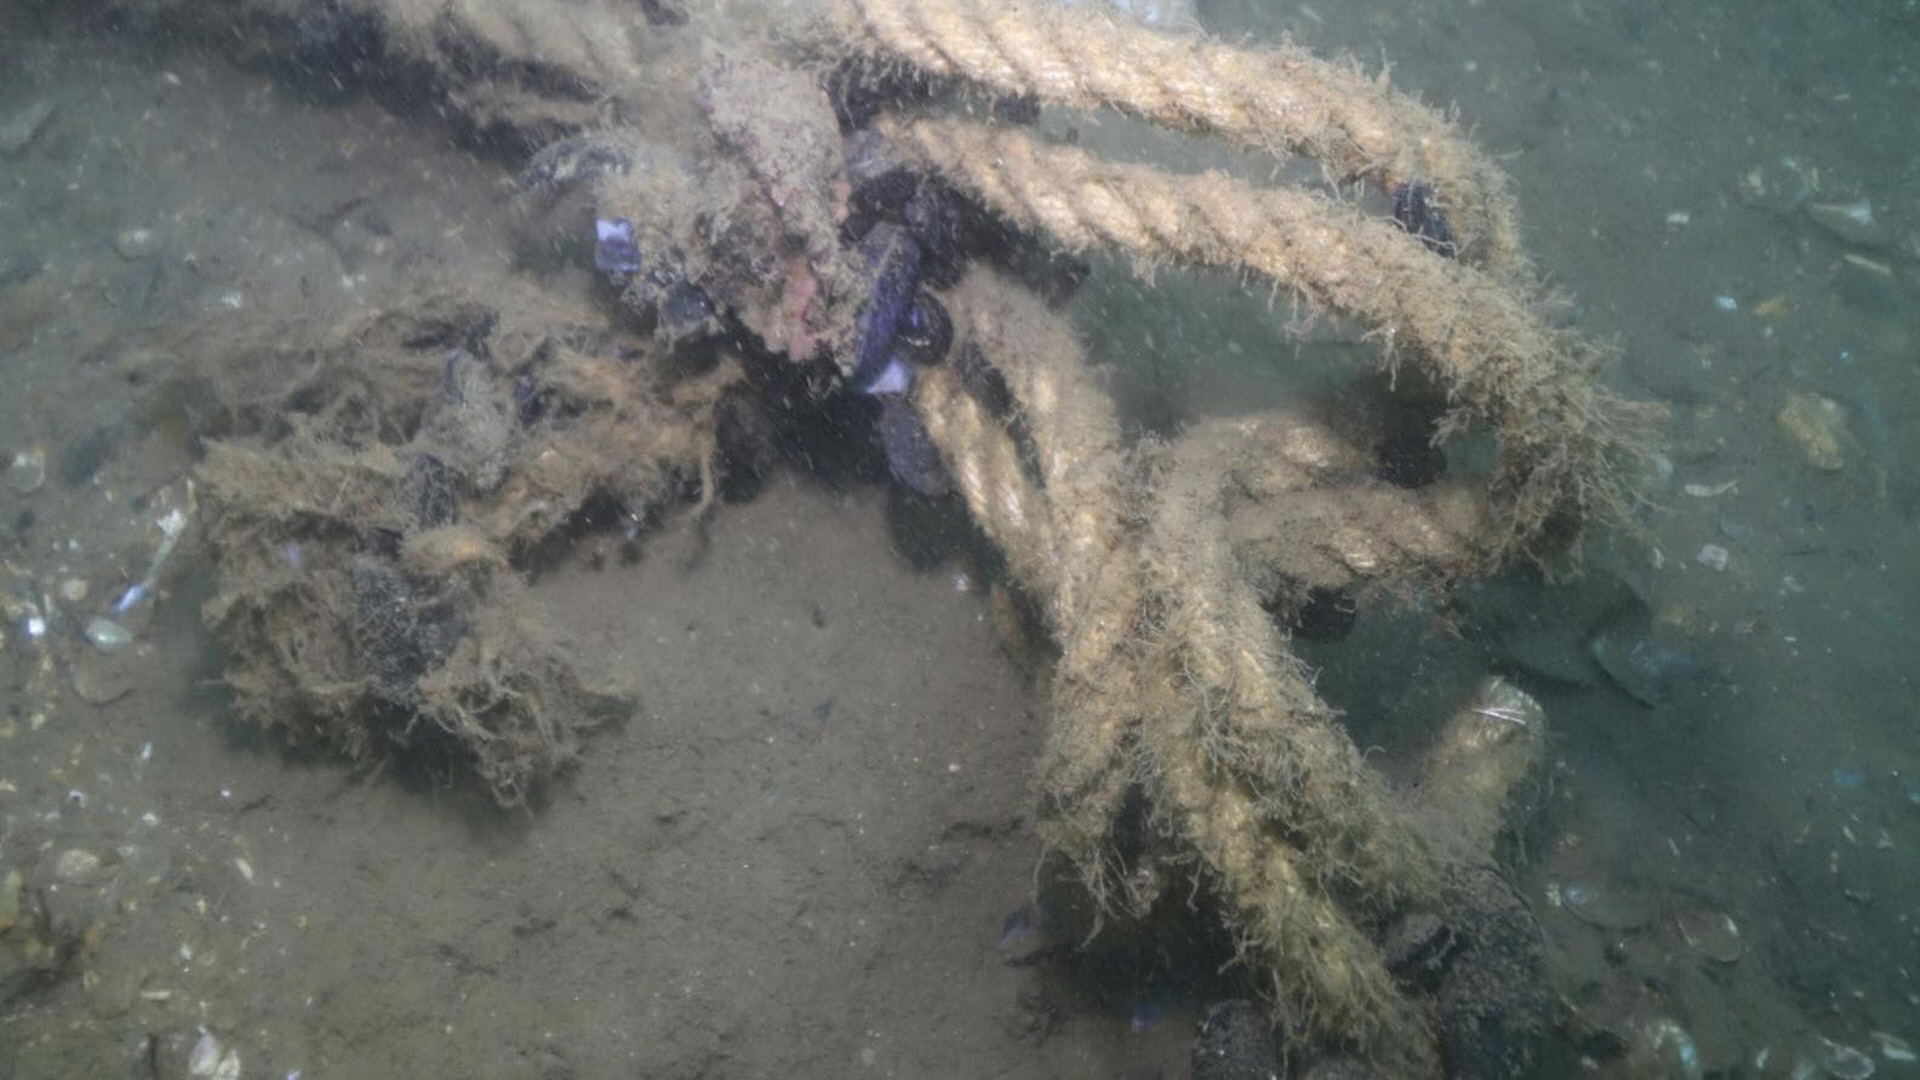bundle of ropes: (255, 0, 1600, 1077)
